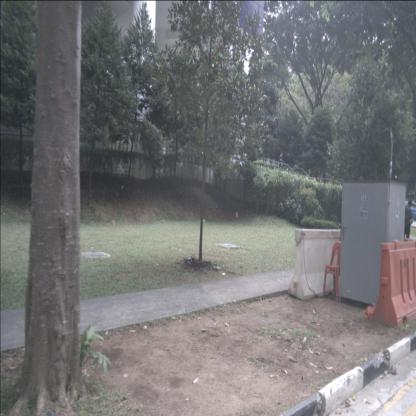barrier: (287, 227, 343, 304), (371, 239, 416, 330)
